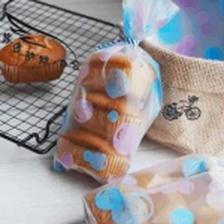snack: (43, 0, 186, 192), (76, 148, 223, 223)
